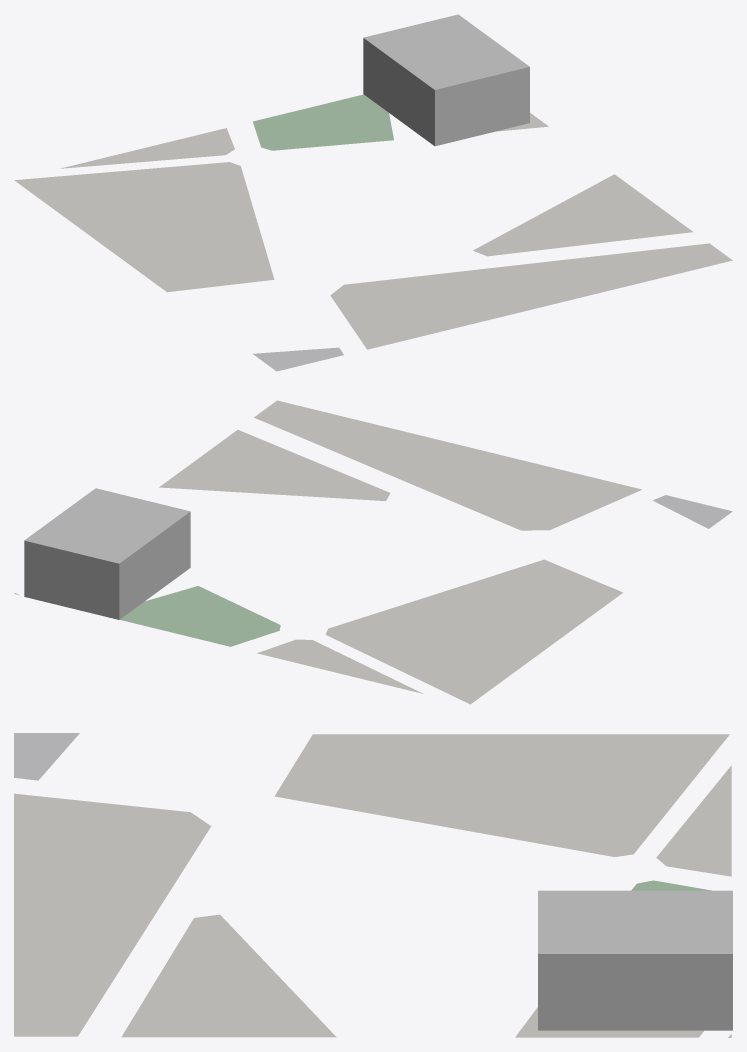
Rendered from 101_96_mid.glb.
3 renders of one model, top to bottom at view 1: azimuth 30°, elevation 25°; view 2: azimuth 150°, elevation 25°; view 3: azimuth 270°, elevation 25°, orthographic. The views are drawn at different scales.
Bounding box in the file's own units: 500 × 59.2 × 501.
